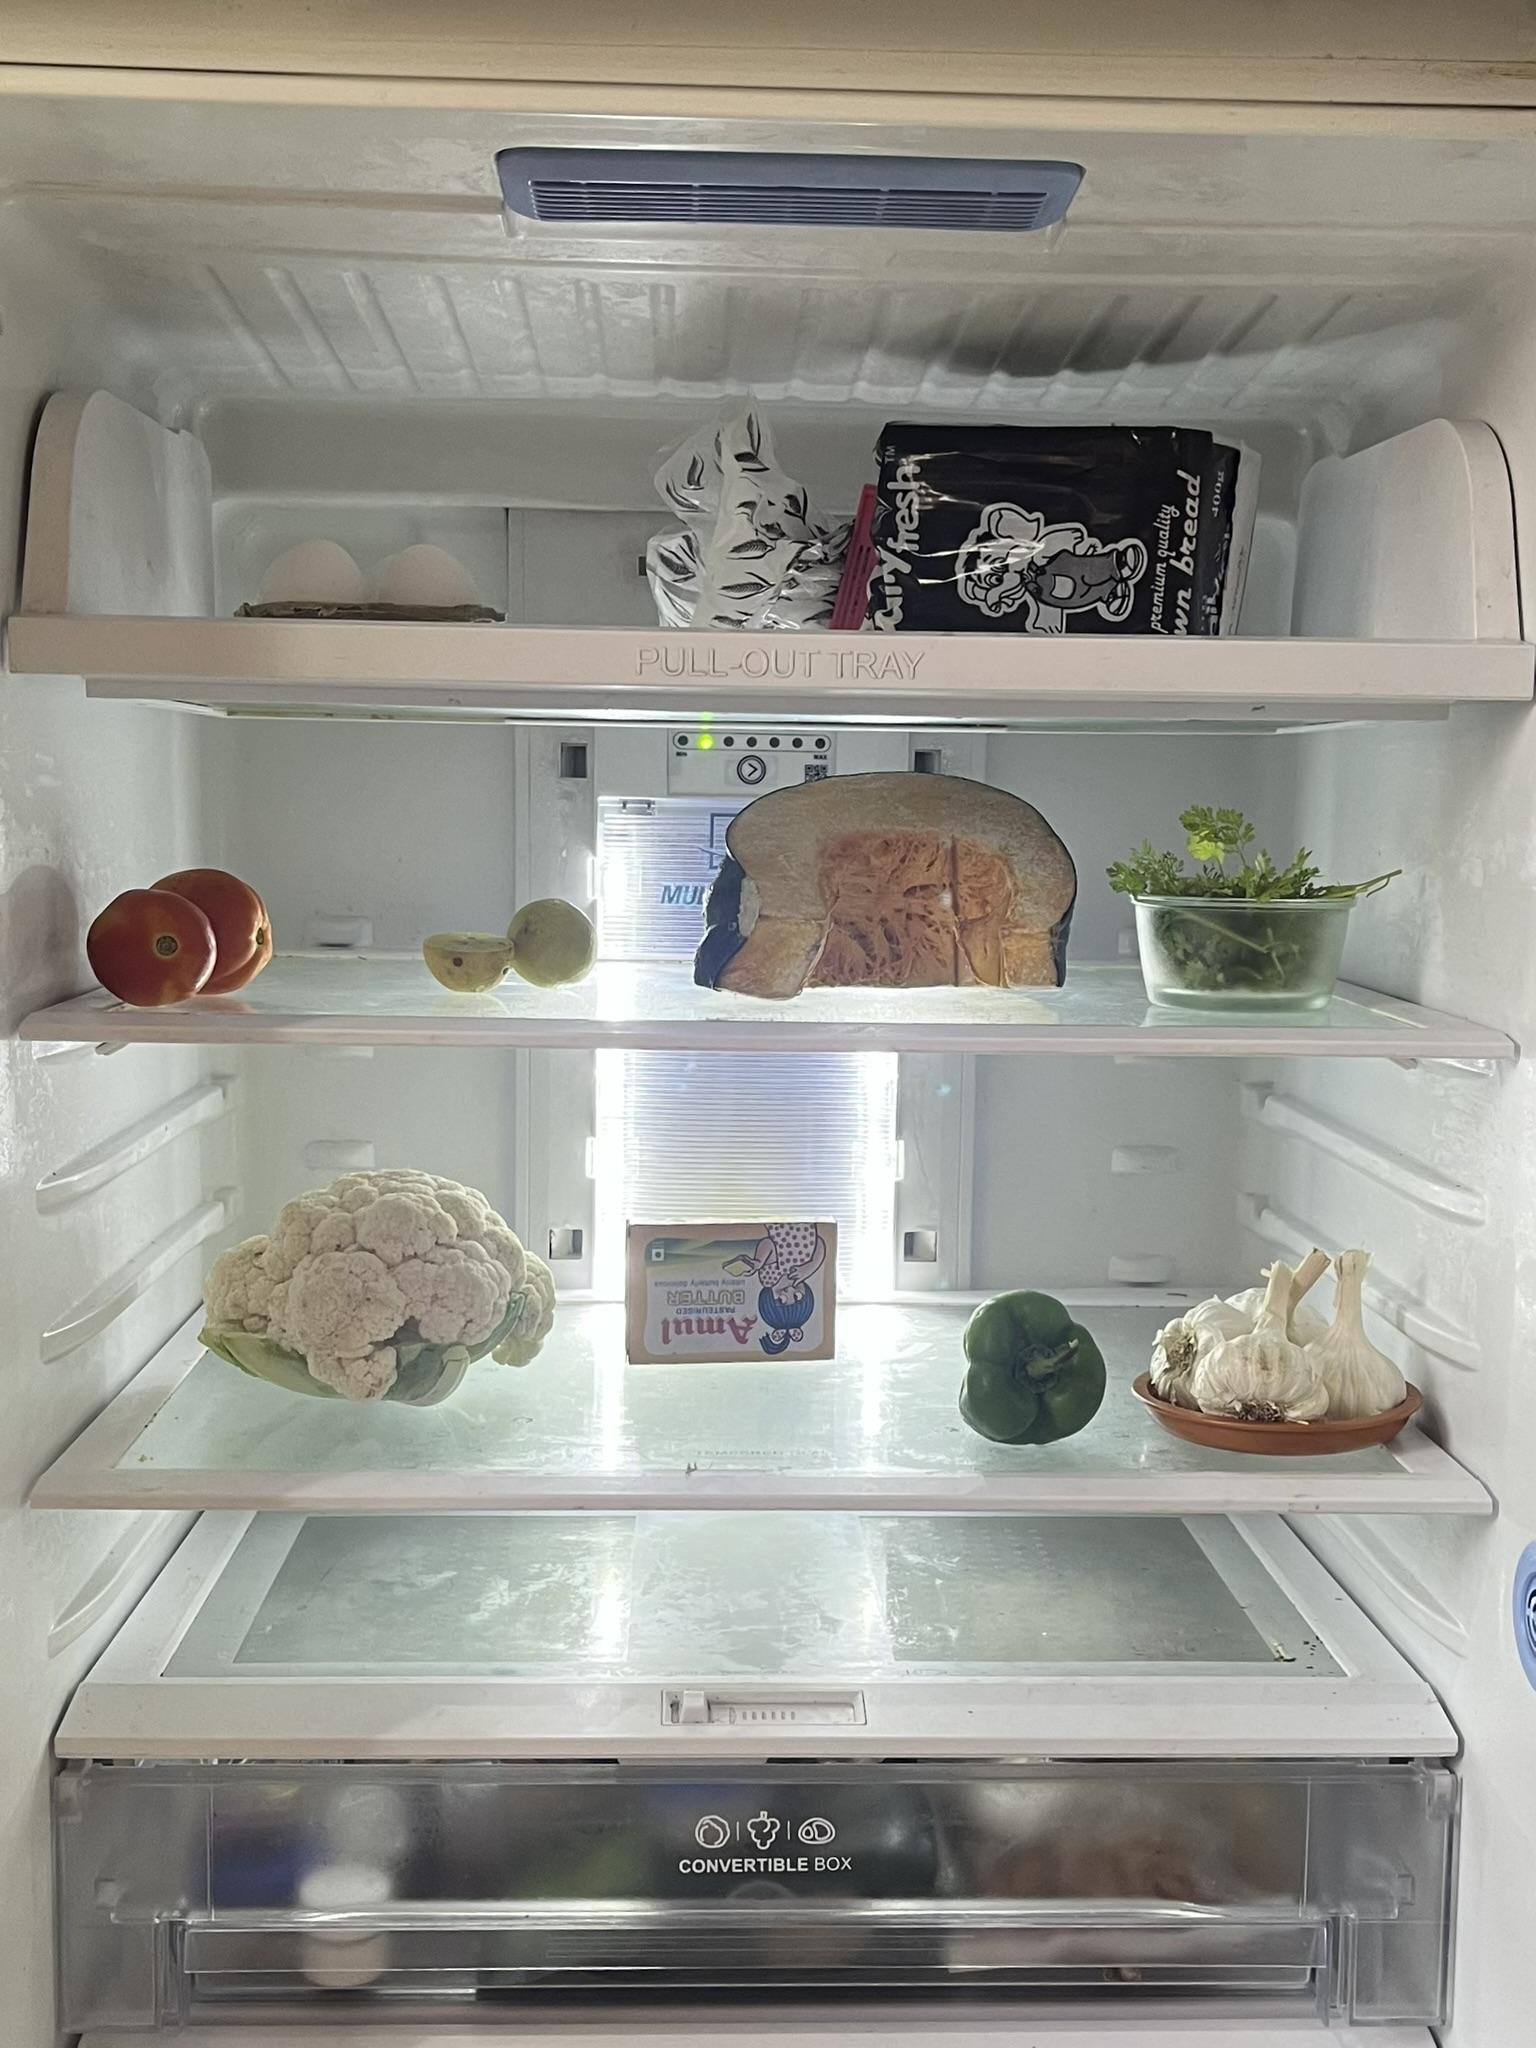bread: (642, 411, 1241, 626)
butter: (621, 1216, 837, 1369)
capsicum: (962, 1292, 1104, 1443)
cauliflower: (202, 1161, 555, 1397)
coriander: (1131, 801, 1347, 1006)
egg: (266, 532, 487, 606)
garlic: (1152, 1247, 1384, 1409)
lemon: (421, 887, 600, 989)
pumpkin: (681, 772, 1075, 992)
tomato: (87, 861, 281, 1006)
